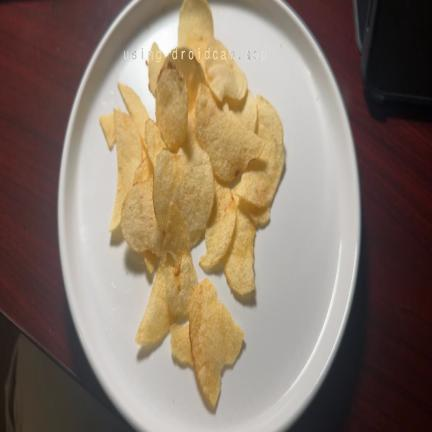chips: (100, 0, 284, 407), (190, 279, 244, 407), (154, 131, 214, 245), (196, 86, 263, 182), (236, 96, 284, 208), (162, 203, 197, 316), (110, 111, 141, 231), (121, 177, 164, 256), (136, 261, 174, 345), (200, 182, 236, 269), (156, 58, 188, 151), (224, 207, 255, 295), (165, 47, 206, 110), (206, 39, 247, 101), (118, 83, 148, 158), (166, 254, 198, 316), (178, 0, 213, 45), (224, 91, 257, 131), (170, 324, 194, 367), (146, 119, 166, 166), (149, 43, 166, 96), (238, 200, 269, 227), (186, 38, 207, 71), (100, 113, 115, 149), (133, 157, 152, 184), (143, 251, 157, 274)
plate: (59, 0, 360, 431)
